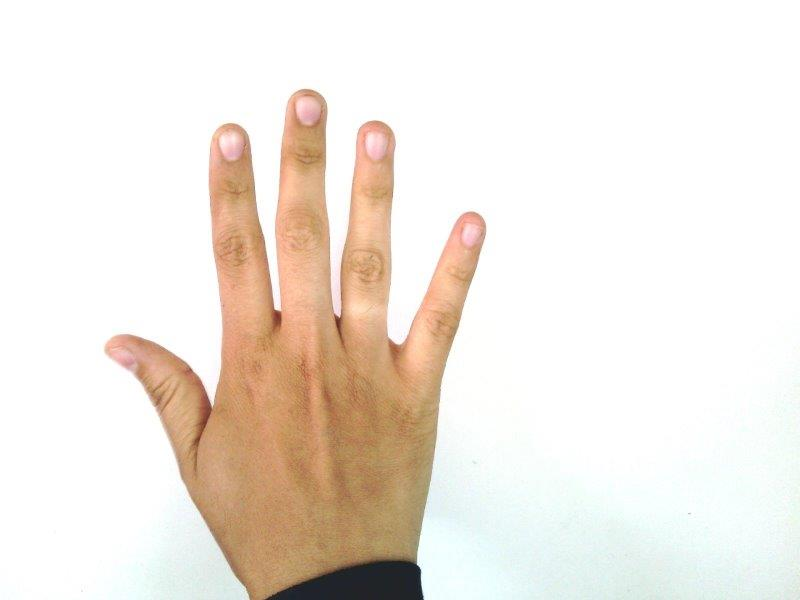hand: (105, 89, 479, 568)
